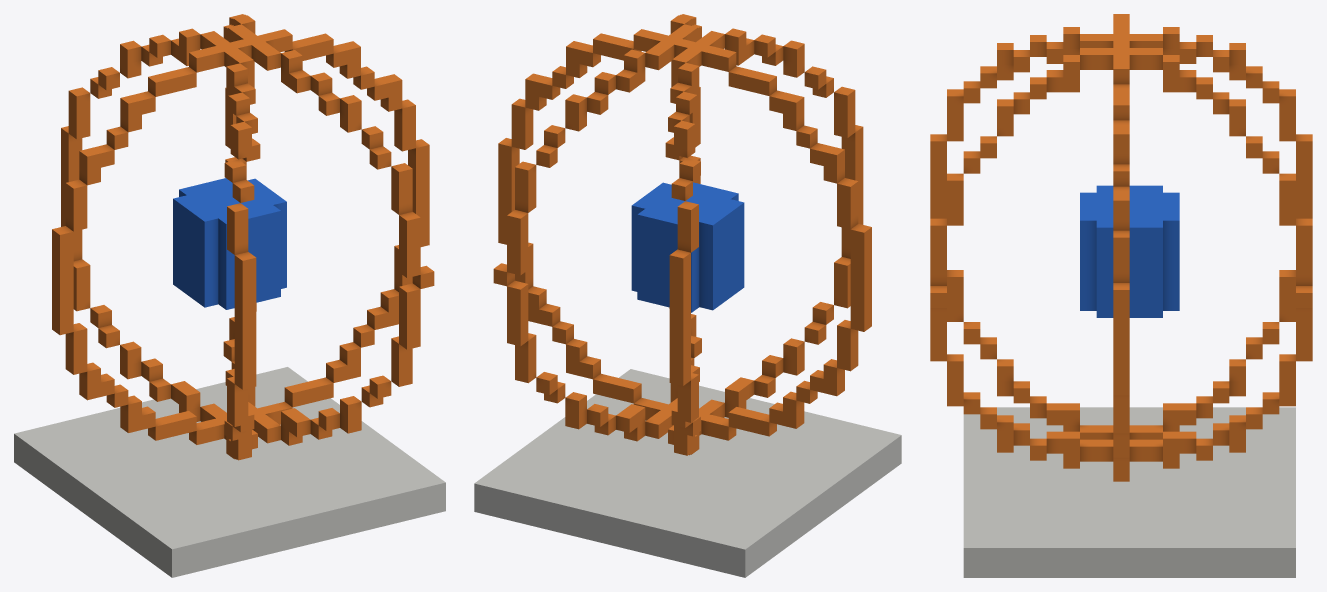
The model's file is w_atom.glb.
The picture shows the model from 3 angles, left to right: view 1: azimuth 30°, elevation 25°; view 2: azimuth 150°, elevation 25°; view 3: azimuth 270°, elevation 25°; orthographic projection. The views are drawn at different scales.
Visible parts, largest first — view 1: w_atom_body; view 2: w_atom_body; view 3: w_atom_body.
Part boxes in pixels (left/top/right/bottom): w_atom_body: left=14, top=14, right=445, bottom=577; w_atom_body: left=474, top=14, right=901, bottom=577; w_atom_body: left=930, top=14, right=1312, bottom=577.
Size of the model in its own units: 1.69 by 1.94 by 1.44.
1 material, 1 textured.
